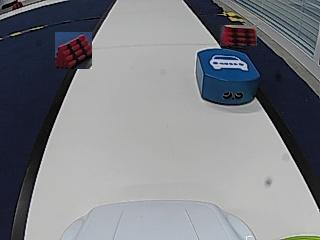safety: (209, 55, 248, 70)
